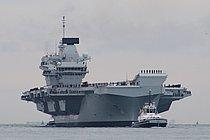MIL_Ship: (18, 35, 192, 127)
